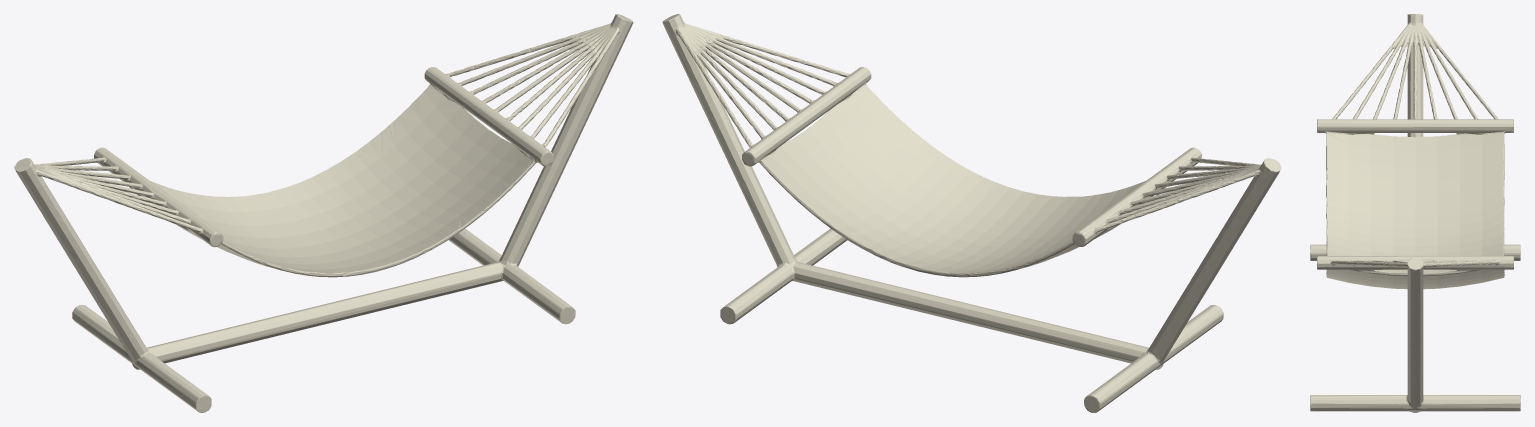
File: NEW_RECOVERY_090_LOD0.fbx
The picture shows the model from 3 angles, left to right: view 1: azimuth 30°, elevation 25°; view 2: azimuth 150°, elevation 25°; view 3: azimuth 270°, elevation 25°; orthographic projection. The views are drawn at different scales.
Parts seen in each view (by area): view 1: Hammock_complete; view 2: Hammock_complete; view 3: Hammock_complete.
Boxes of the visible parts, x1,y1,x2,y2 form: Hammock_complete: [14, 14, 633, 412]; Hammock_complete: [662, 14, 1281, 412]; Hammock_complete: [1310, 14, 1520, 412].
Bounding box in the file's own units: 372 × 130 × 137.
